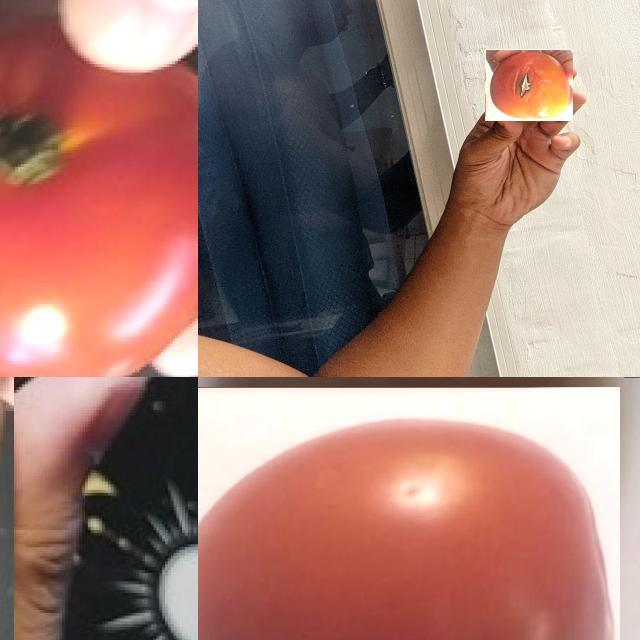Fresh Tomato: (198, 386, 620, 640), (0, 0, 198, 377)
Rotten Tomato: (485, 49, 573, 121)
